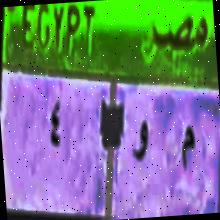4: (46, 93, 64, 163)
meem: (178, 117, 198, 180)
waw: (128, 109, 156, 180)
